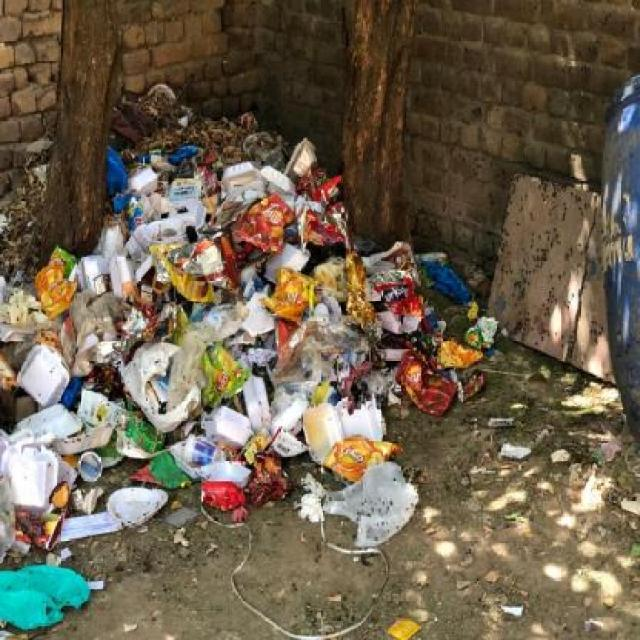garbage: (5, 78, 636, 636)
